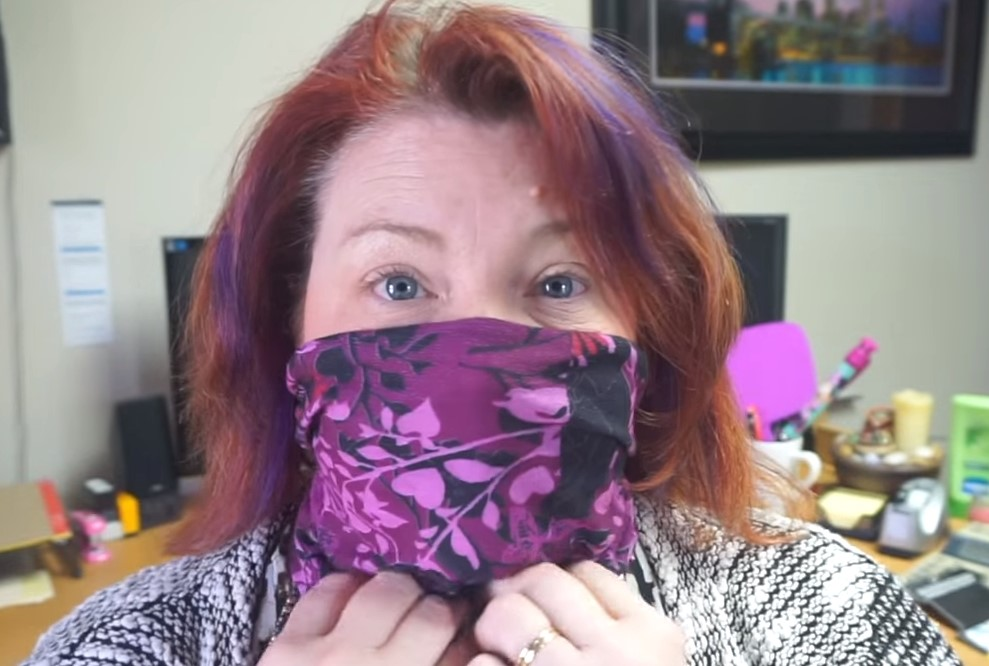face_with_mask: (236, 52, 727, 610)
